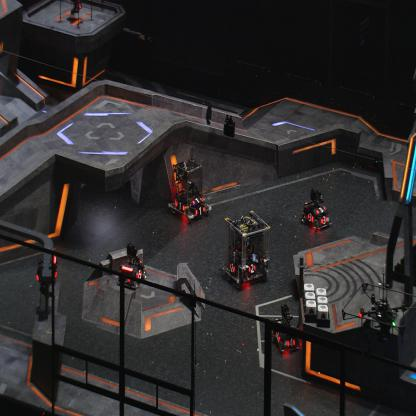car: (220, 208, 271, 287), (168, 155, 212, 221), (117, 240, 148, 290), (272, 302, 302, 353), (300, 188, 332, 231)
